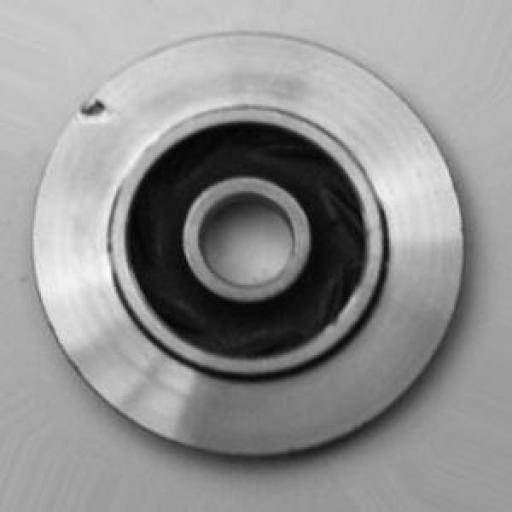defect: (42, 66, 134, 141)
